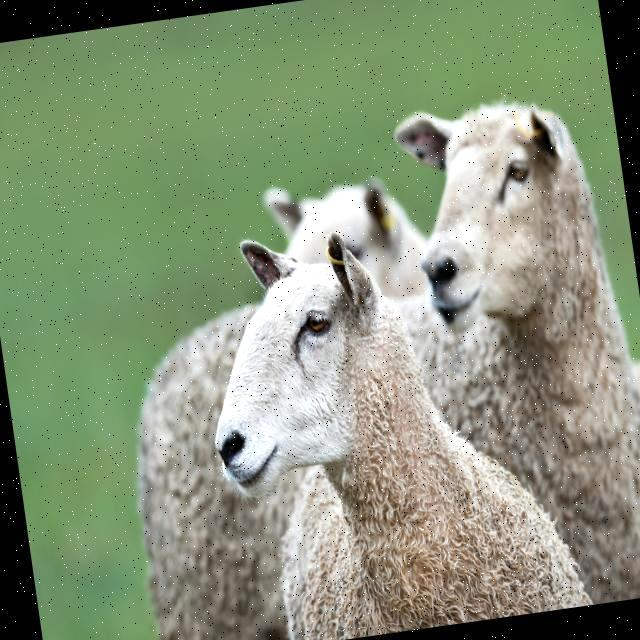sheep: (213, 233, 589, 640), (134, 184, 421, 640), (386, 100, 640, 604)
